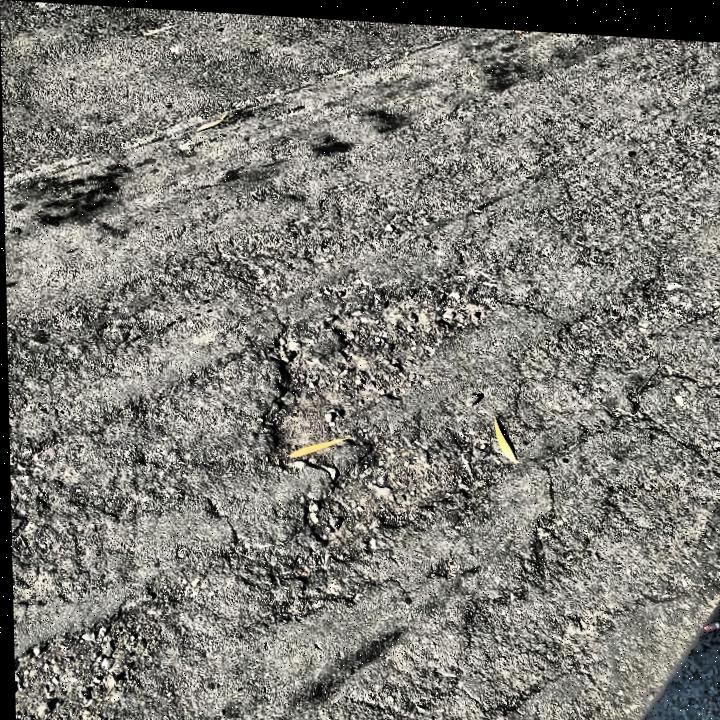pothole: (248, 272, 512, 556), (10, 594, 169, 720)
